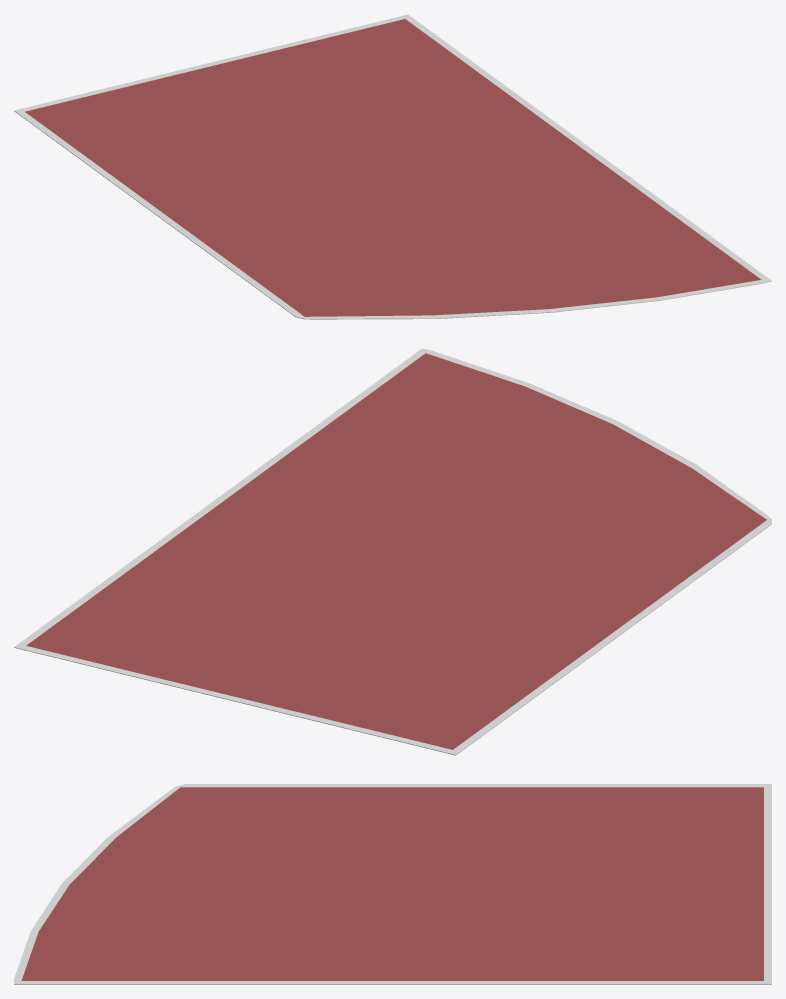
File: High Jump Area.fbx
The picture shows the model from 3 angles, top to bottom: view 1: azimuth 30°, elevation 25°; view 2: azimuth 150°, elevation 25°; view 3: azimuth 270°, elevation 25°; orthographic projection. The views are drawn at different scales.
Visible parts, largest first — view 1: High Jump Area; view 2: High Jump Area; view 3: High Jump Area.
Boxes of the visible parts, bbox=[...] form: High Jump Area: bbox=[14, 14, 771, 319]; High Jump Area: bbox=[14, 348, 771, 755]; High Jump Area: bbox=[14, 784, 771, 984].
Size of the model in its own units: 7529 by 10 by 12043.
